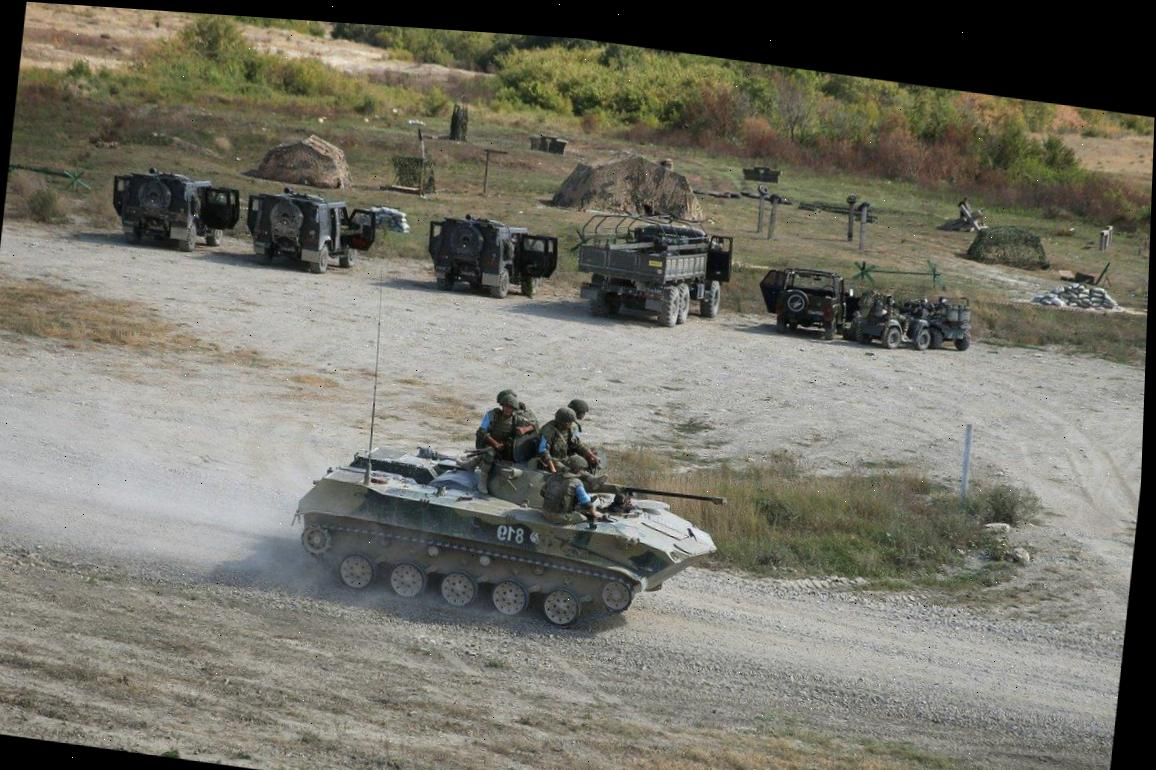armored_car: (421, 206, 563, 305), (241, 180, 379, 281), (105, 161, 243, 259), (753, 260, 851, 342)
tank: (277, 372, 734, 655)
truck: (569, 199, 737, 336)
